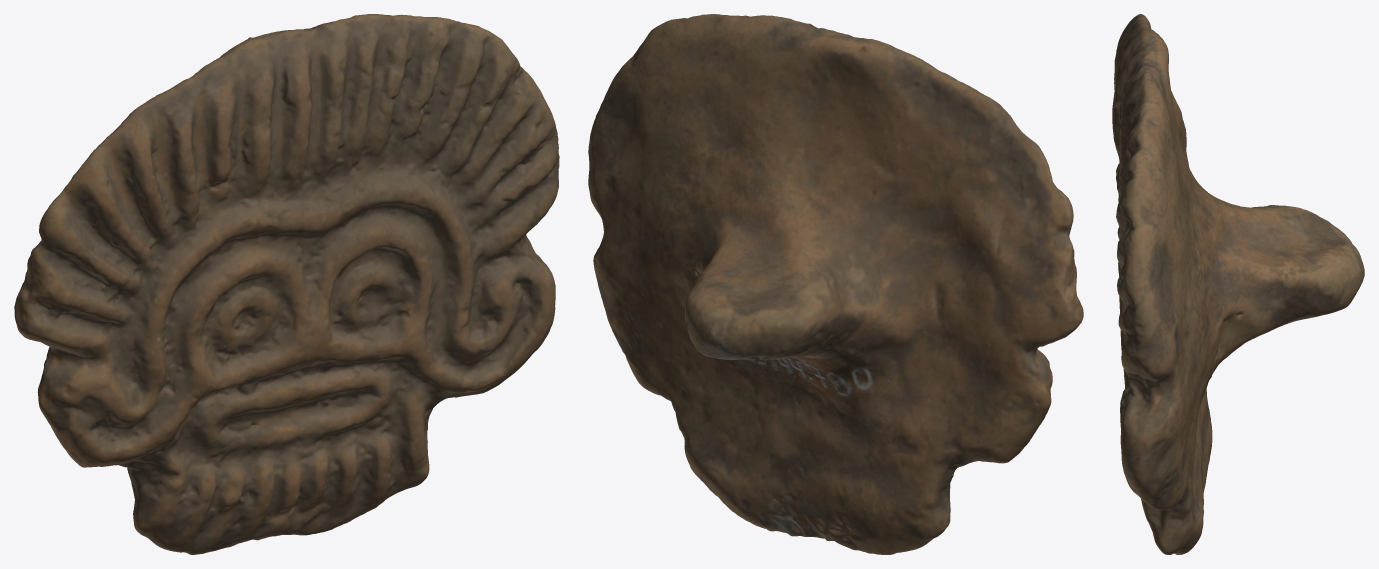
Rendered from aquarium.opt.glb.
The picture shows the model from 3 angles, left to right: view 1: azimuth 30°, elevation 25°; view 2: azimuth 150°, elevation 25°; view 3: azimuth 270°, elevation 25°; orthographic projection. The views are drawn at different scales.
Size of the model in its own units: 0.0606 by 0.0577 by 0.0279.
1 material, 1 textured.
